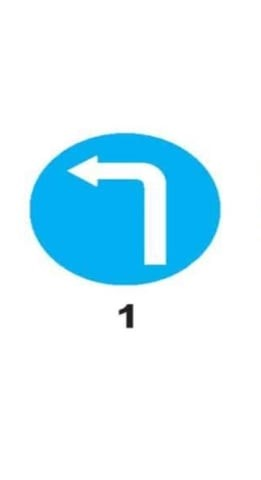Turn_left: (27, 135, 226, 290)
